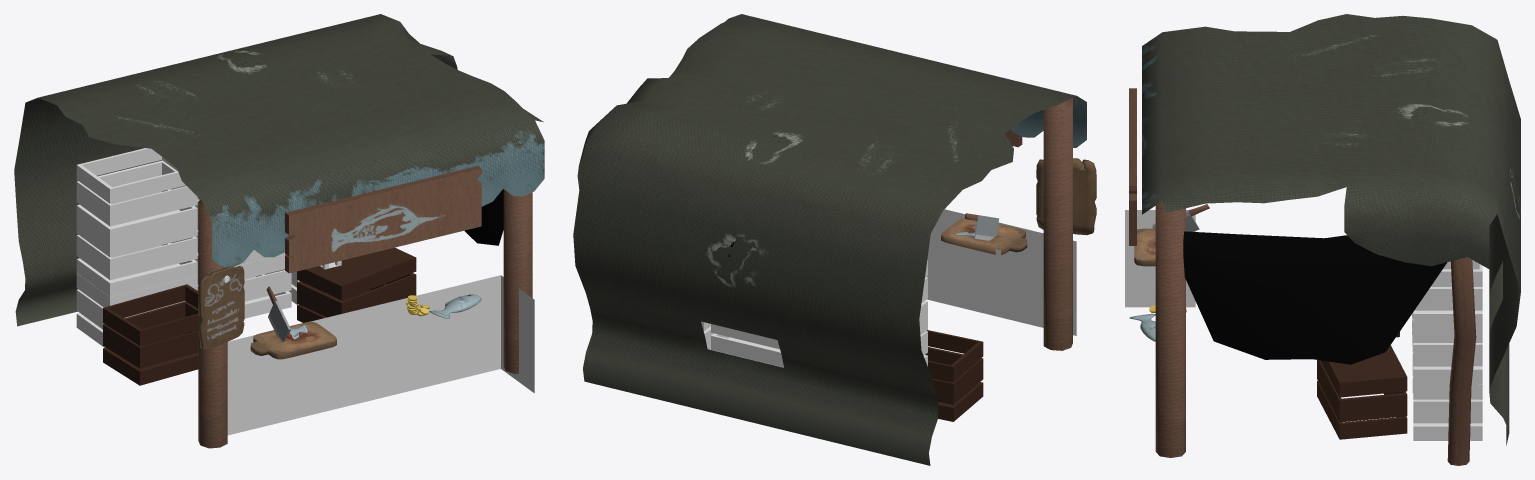
Rendered from place_fishery.glb.
3 views of the same model, side by side, from view 1: azimuth 30°, elevation 25°; view 2: azimuth 150°, elevation 25°; view 3: azimuth 270°, elevation 25° (orthographic). The views are drawn at different scales.
Parts seen in each view (by area): view 1: cover_sheet, customer_table, Plano, simplebox.003, fish_container, simplebox.002, flipped_box, simplebox.001, pos_t2, pos_t1, menu_signal, cut_table (+3 smaller); view 2: cover_sheet, customer_table, pos_t1, fish_container, simplebox.002, menu_signal, cut_table, knife; view 3: cover_sheet, Plano.001, pos_t2, flipped_box, pos_t3, simplebox.001, simplebox.002, simplebox.003, customer_table, Plano, cut_table.
Boxes of the visible parts, x1,y1,x2,y2 form: cover_sheet: (14,14,544,326); customer_table: (227,275,534,435); Plano: (285,166,482,273); simplebox.003: (76,148,200,243); fish_container: (103,284,198,385); simplebox.002: (76,216,284,297); flipped_box: (297,247,416,322); simplebox.001: (76,254,326,347); pos_t2: (503,129,532,373); pos_t1: (198,200,227,448); menu_signal: (198,266,244,349); cut_table: (250,321,336,359); cover_sheet: (573,14,1086,465); customer_table: (926,209,1076,335); pos_t1: (1043,98,1072,350); fish_container: (925,330,983,421); simplebox.002: (701,315,927,367); menu_signal: (1036,158,1096,235); cut_table: (941,217,1027,254); knife: (965,213,999,240); cover_sheet: (1142,14,1520,445); Plano.001: (1183,231,1447,364); pos_t2: (1155,198,1185,457); flipped_box: (1317,345,1407,439); pos_t3: (1447,257,1476,465); simplebox.001: (1412,313,1482,440); simplebox.002: (1412,312,1482,384); simplebox.003: (1413,260,1482,328); customer_table: (1125,210,1195,307); Plano: (1129,88,1136,245); cut_table: (1134,226,1155,266).
Bounding box in the file's own units: 3.92 × 2.66 × 3.5.
15 materials, 10 textured.
